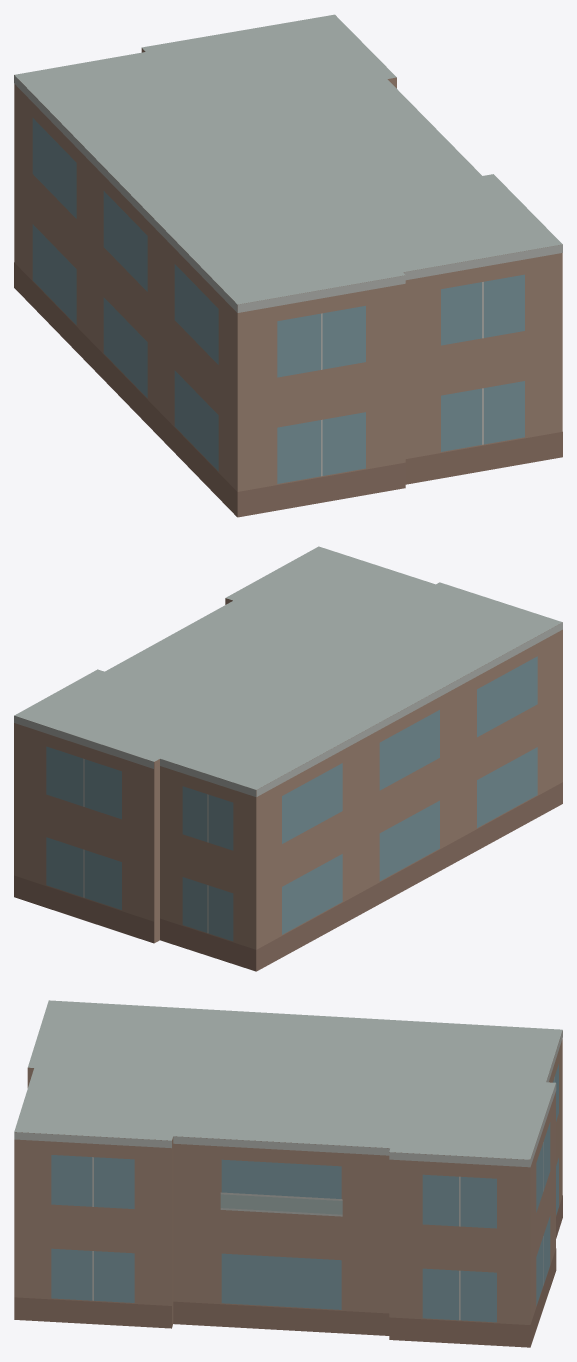
File: survey-upis-32814915.glb
3 views of the same model, one above another, from view 1: azimuth 30°, elevation 25°; view 2: azimuth 150°, elevation 25°; view 3: azimuth 270°, elevation 25° (orthographic). The views are drawn at different scales.
Visible parts, largest first — view 1: survey-upis-32814915.tmp; view 2: survey-upis-32814915.tmp; view 3: survey-upis-32814915.tmp.
Boxes of the visible parts, x1=… form: survey-upis-32814915.tmp: x1=14, y1=14, x2=562, y2=517; survey-upis-32814915.tmp: x1=14, y1=546, x2=562, y2=971; survey-upis-32814915.tmp: x1=14, y1=1000, x2=562, y2=1347.
Size of the model in its own units: 11.12 by 6.1 by 16.17.
